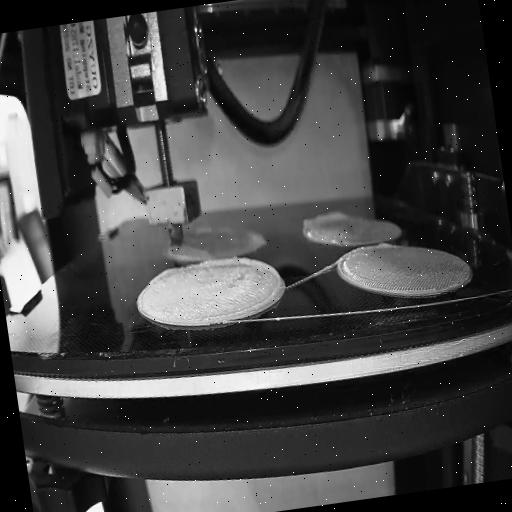over_extrusion: (193, 251, 287, 322), (300, 208, 350, 235), (148, 263, 180, 287), (166, 244, 198, 262), (374, 240, 394, 250)
